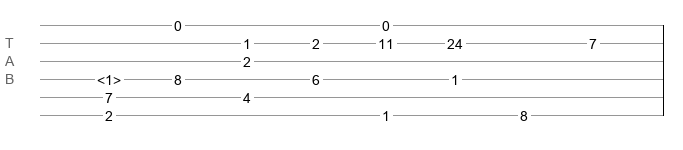0: (174, 18, 182, 28), (382, 18, 390, 28)
1: (243, 36, 251, 46), (382, 108, 390, 118), (451, 72, 459, 82)
11: (378, 36, 394, 46)
2: (105, 108, 113, 118), (243, 54, 251, 64), (312, 36, 320, 46)
24: (447, 36, 463, 46)
4: (243, 90, 251, 100)
6: (312, 72, 320, 82)
7: (105, 90, 113, 100), (589, 36, 597, 46)
8: (174, 72, 182, 82), (520, 108, 528, 118)
harmonic: (97, 72, 121, 82)
